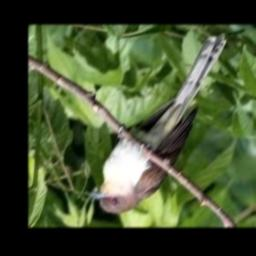Cuckoo: (88, 33, 227, 213)
